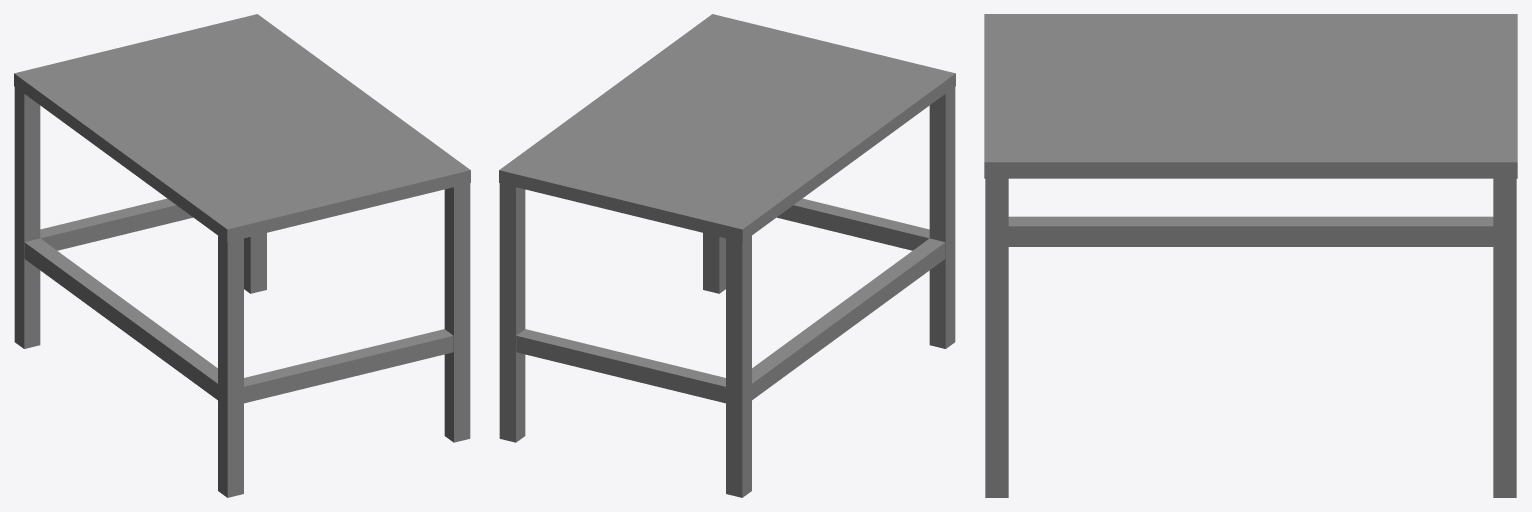
The model's file is Table.fbx.
3 views of the same model, side by side, from view 1: azimuth 30°, elevation 25°; view 2: azimuth 150°, elevation 25°; view 3: azimuth 270°, elevation 25° (orthographic). The views are drawn at different scales.
Visible parts, largest first — view 1: Table; view 2: Table; view 3: Table.
Part boxes in pixels (bbox=[...]): Table: bbox=[14, 14, 470, 497]; Table: bbox=[499, 14, 955, 497]; Table: bbox=[984, 14, 1517, 497].
Size of the model in its own units: 200 by 211 by 304.
